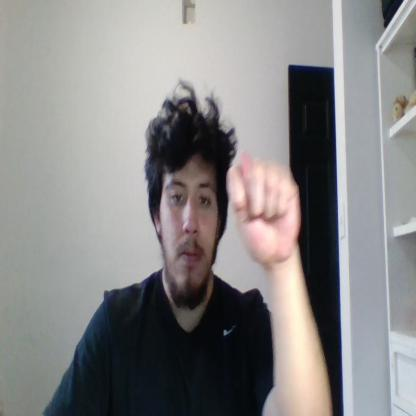T: (226, 146, 302, 262)
